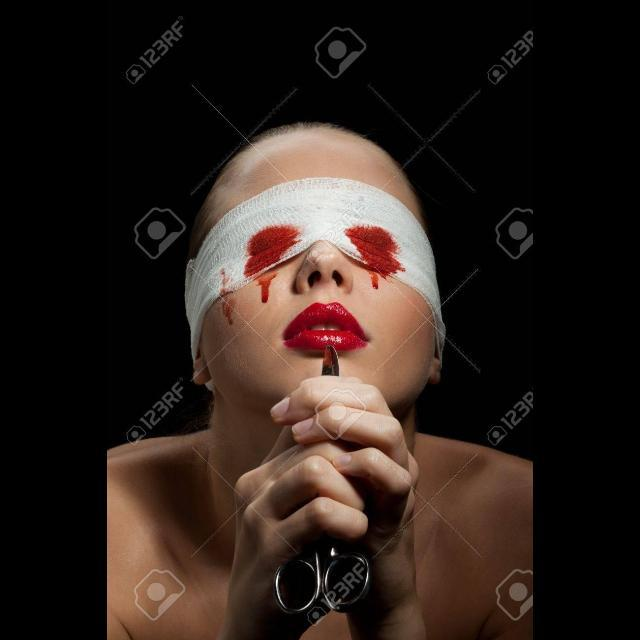blood: (344, 225, 405, 296), (244, 224, 300, 276), (257, 273, 276, 303), (221, 293, 235, 325)
